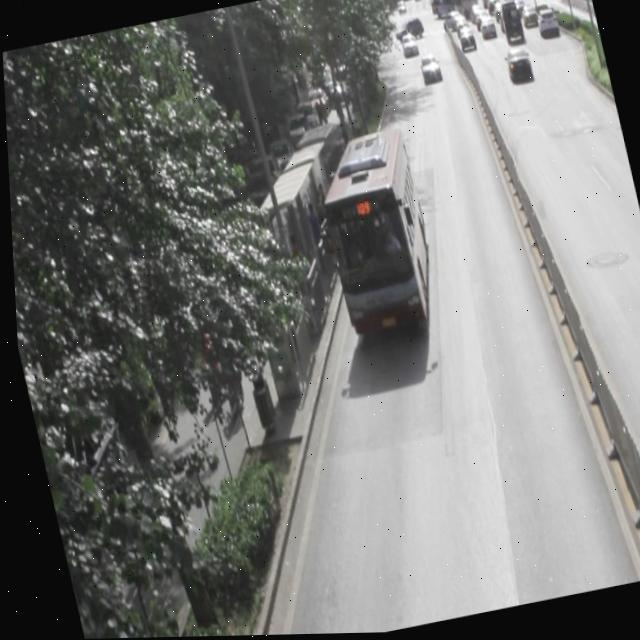car: (501, 49, 531, 87), (416, 56, 441, 85)
van: (305, 127, 440, 339)
